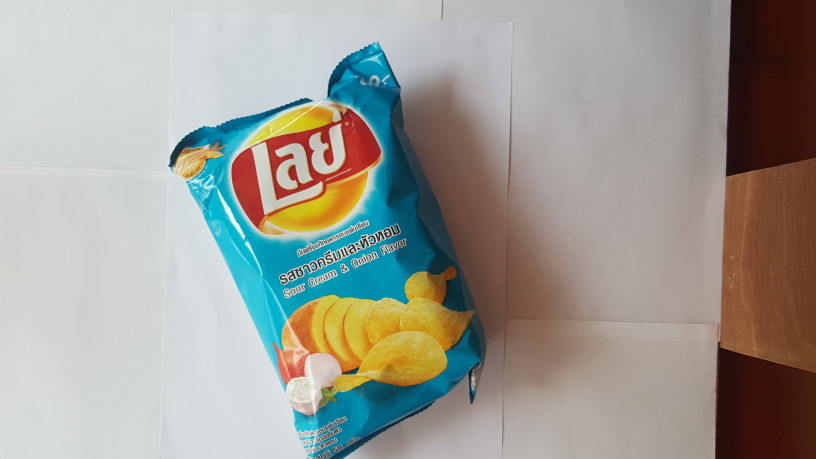lays-onion: (157, 36, 501, 459)
